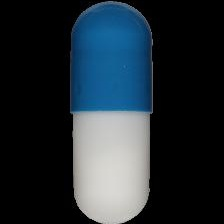16590-895: (0, 0, 224, 224)
